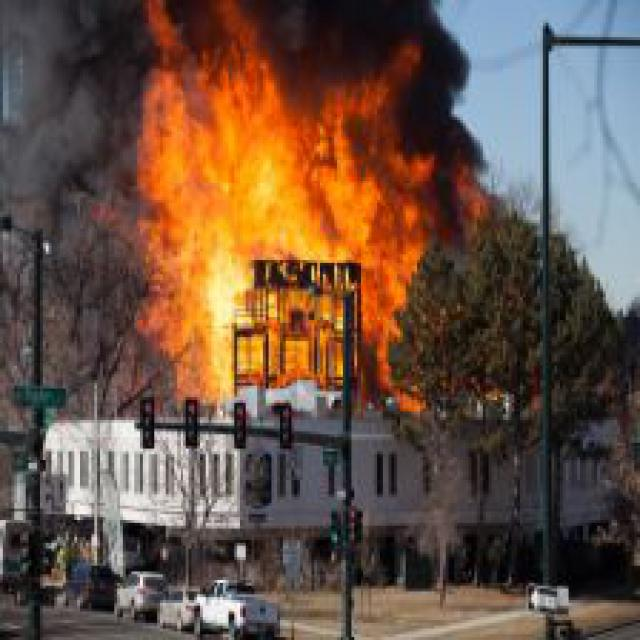fire: (109, 23, 488, 411)
